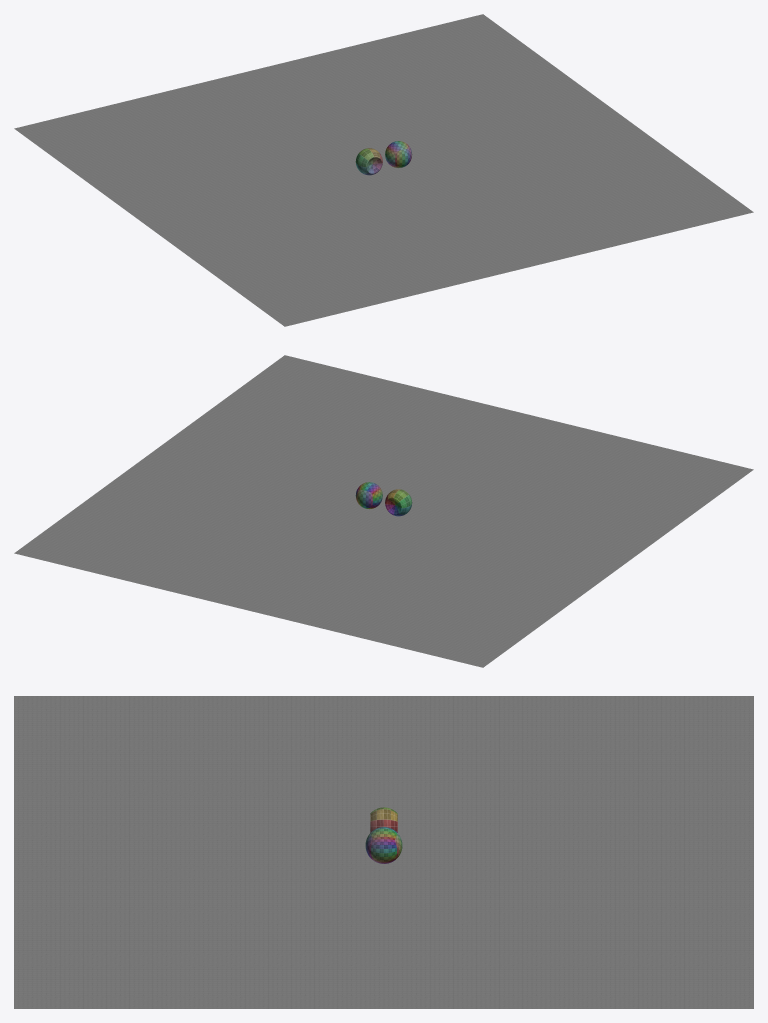
Rendered from refl_pointlight.obj.
3 renders of one model, top to bottom at view 1: azimuth 30°, elevation 25°; view 2: azimuth 150°, elevation 25°; view 3: azimuth 270°, elevation 25°, orthographic. The views are drawn at different scales.
Visible parts, largest first — view 1: floor, obj01, obj02; view 2: floor, obj01, obj02; view 3: floor, obj02, obj01.
Boxes of the visible parts, x1,y1,x2,y2 form: floor: (14,14,753,326); obj01: (355,148,382,175); obj02: (385,141,412,168); floor: (14,355,753,667); obj01: (385,489,412,516); obj02: (355,482,382,509); floor: (14,696,753,1008); obj02: (365,827,402,863); obj01: (370,807,397,832).
Size of the model in its own units: 40 by 2 by 40.
Materials: 3 (3 with a texture image).
